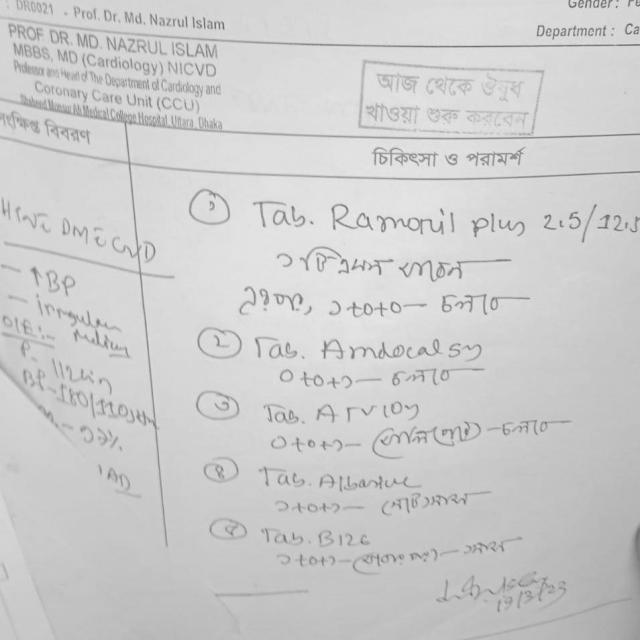medicine: (323, 199, 531, 241), (313, 333, 445, 363), (308, 464, 420, 496), (310, 399, 380, 428), (312, 524, 378, 554)
